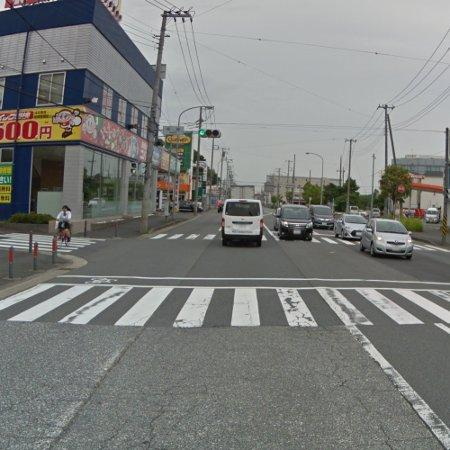crosswalks: (0, 280, 450, 328)
